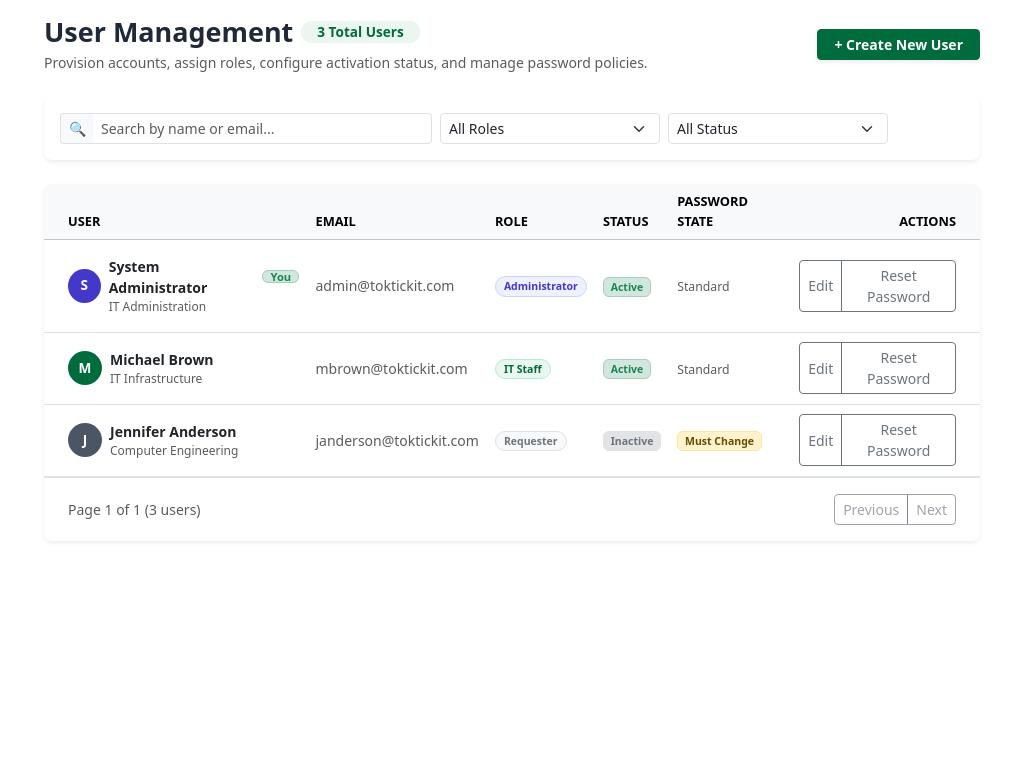
Lab 3 Issue 6: UserManagement Component (UI-04, FR-13, FR-14, FR-15) › disables Active toggle and Role dropdown when editing own account (BR-12)
This screenshot has width=1024, height=768.
Expected: the text "System Administrator" is shown, 109,257 -> 207,297
# Click Edit for own account (id 1)
Click the button with id "edit-user-1-btn": (821, 286) 799,260 -> 842,312
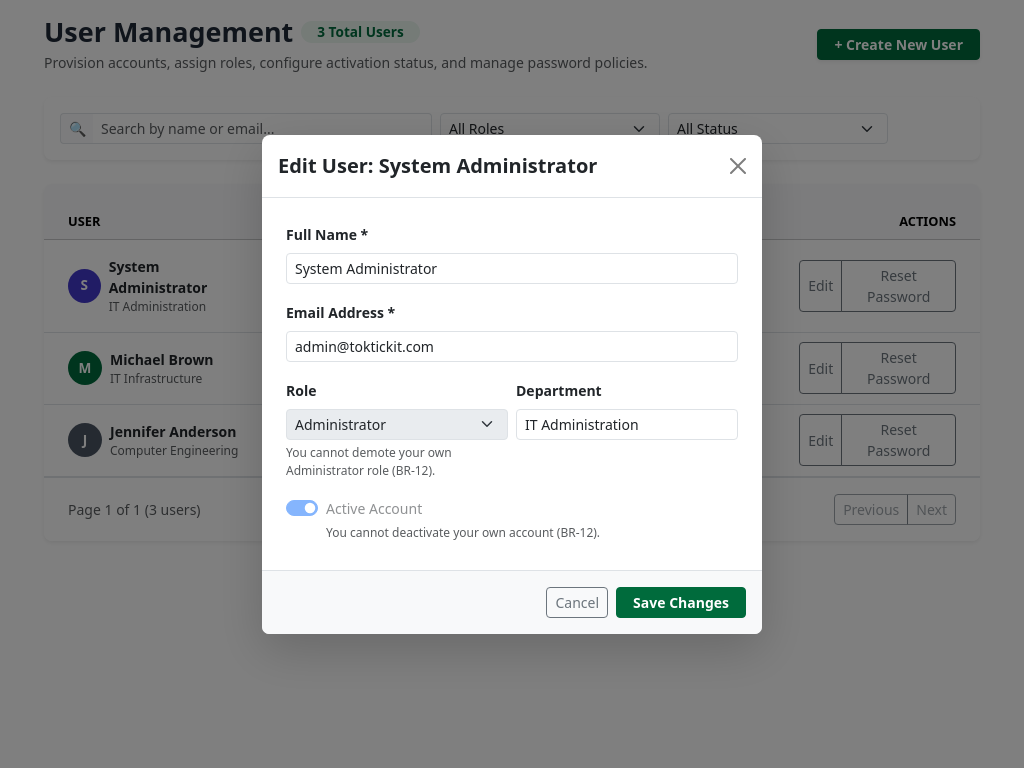
Now the heading "Edit User: System Administrator" is shown, box 278,150 -> 597,180
Now the checkbox with id "edit-user-active" is disabled, box 286,500 -> 318,516
Now the text "You cannot deactivate your own account (BR-12)." is shown, box 326,524 -> 600,540
